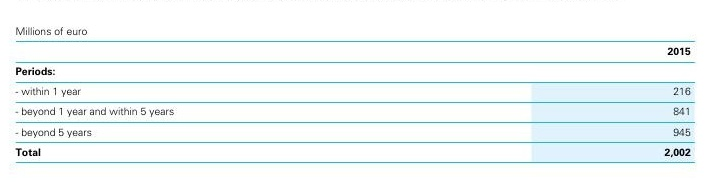table: (0, 0, 714, 183)
